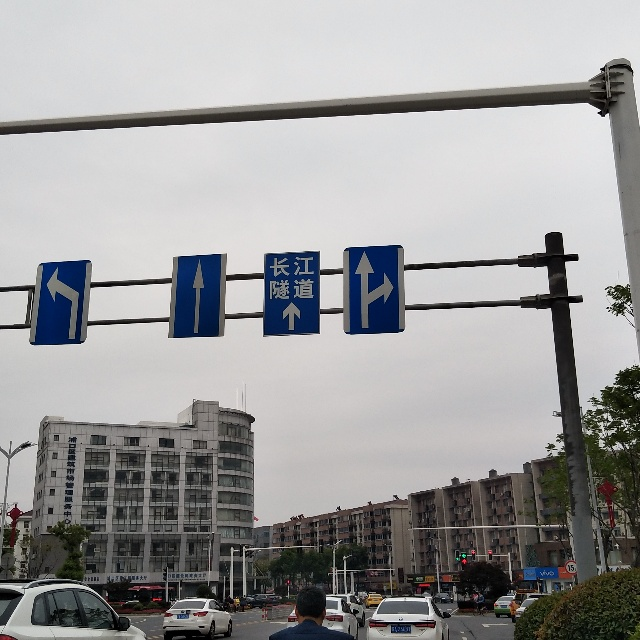left: (38, 262, 81, 345)
straight: (177, 252, 221, 334), (271, 296, 308, 333)
